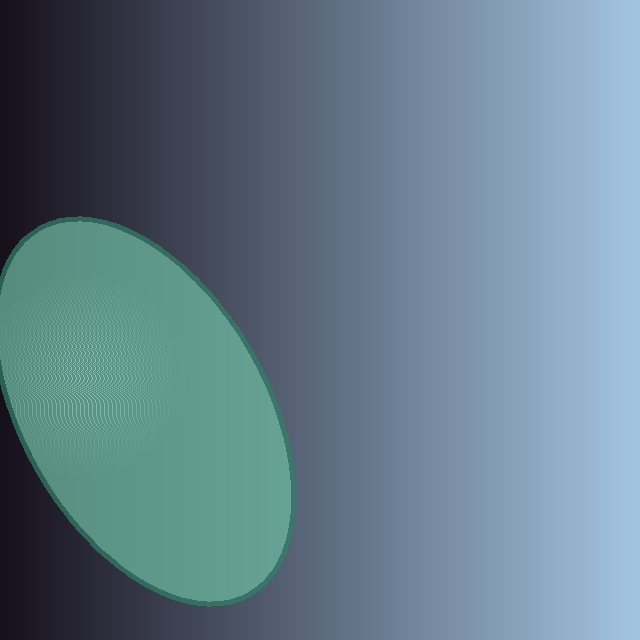lens: (0, 219, 293, 603)
